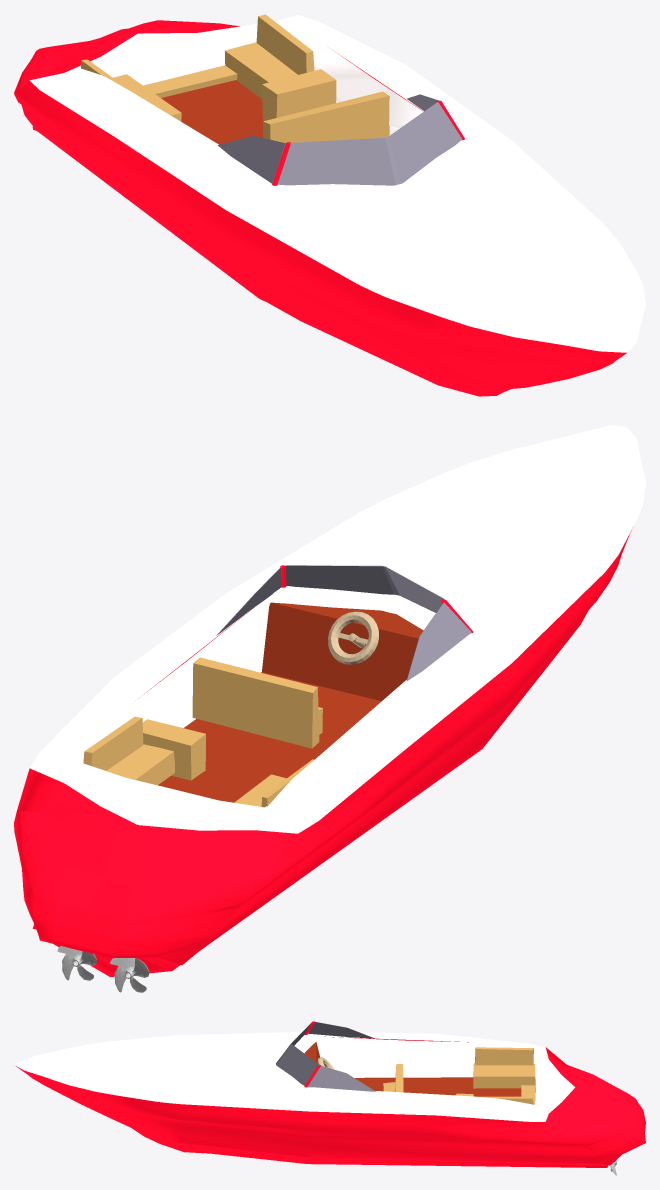
Rendered from speedboatv3blend.fbx.
3 views of the same model, one above another, from view 1: azimuth 30°, elevation 25°; view 2: azimuth 150°, elevation 25°; view 3: azimuth 270°, elevation 25° (orthographic). The views are drawn at different scales.
Parts seen in each view (by area): view 1: BaseTop, Base, Furniture, Glass, BoatFloor; view 2: BaseTop, Base, Furniture, Panel, BoatFloor, Glass, Propellers, Wheel; view 3: BaseTop, Base, Furniture, Glass, BoatFloor.
Part boxes in pixels (x1=…): BaseTop: x1=30, y1=15, x2=645, y2=352; Base: x1=14, y1=20, x2=626, y2=396; Furniture: x1=81, y1=14, x2=389, y2=143; Glass: x1=217, y1=94, x2=462, y2=185; BoatFloor: x1=161, y1=80, x2=263, y2=144; BaseTop: x1=30, y1=425, x2=645, y2=833; Base: x1=14, y1=530, x2=631, y2=976; Furniture: x1=83, y1=657, x2=322, y2=807; Panel: x1=262, y1=602, x2=423, y2=700; BoatFloor: x1=158, y1=672, x2=381, y2=802; Glass: x1=216, y1=565, x2=471, y2=681; Propellers: x1=57, y1=946, x2=149, y2=992; Wheel: x1=328, y1=611, x2=378, y2=664; BaseTop: x1=14, y1=1031, x2=575, y2=1121; Base: x1=16, y1=1036, x2=645, y2=1167; Furniture: x1=383, y1=1047, x2=535, y2=1104; Glass: x1=276, y1=1021, x2=375, y2=1091; BoatFloor: x1=355, y1=1077, x2=535, y2=1096.
Bounding box in the file's own units: 452 × 317 × 1474.
